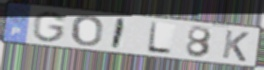8: (184, 25, 213, 59)
G: (32, 11, 69, 44)
I: (109, 17, 128, 51)
K: (220, 28, 251, 63)
L: (145, 21, 174, 56)
O: (71, 14, 104, 47)
